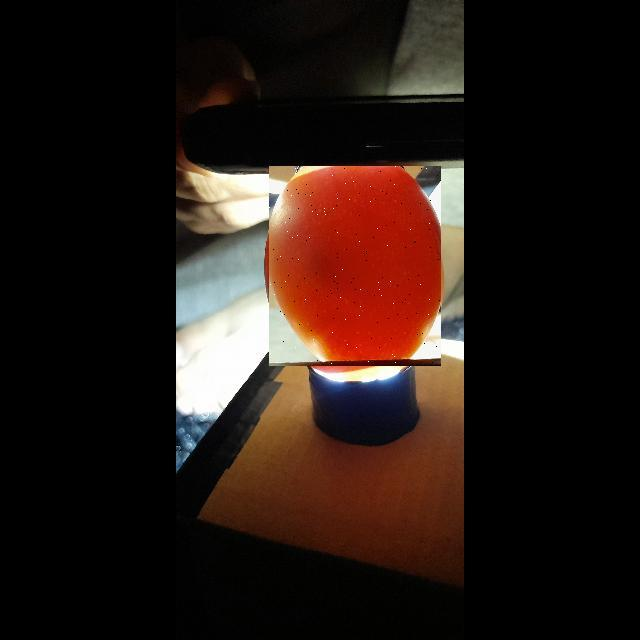Fertile: (269, 166, 441, 366)
